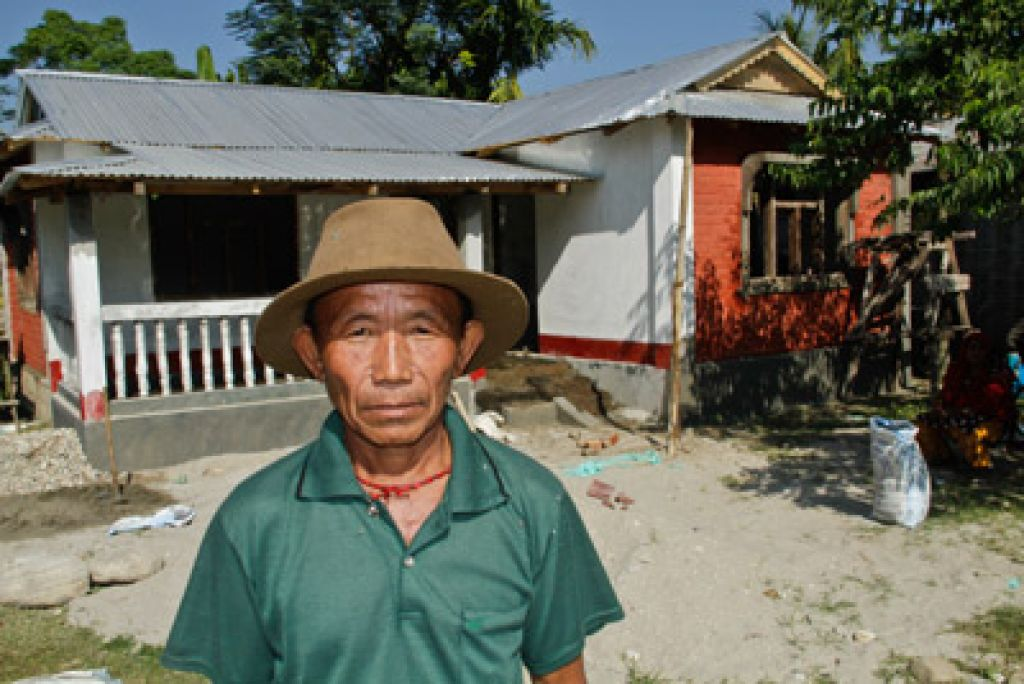human: (144, 185, 630, 684)
